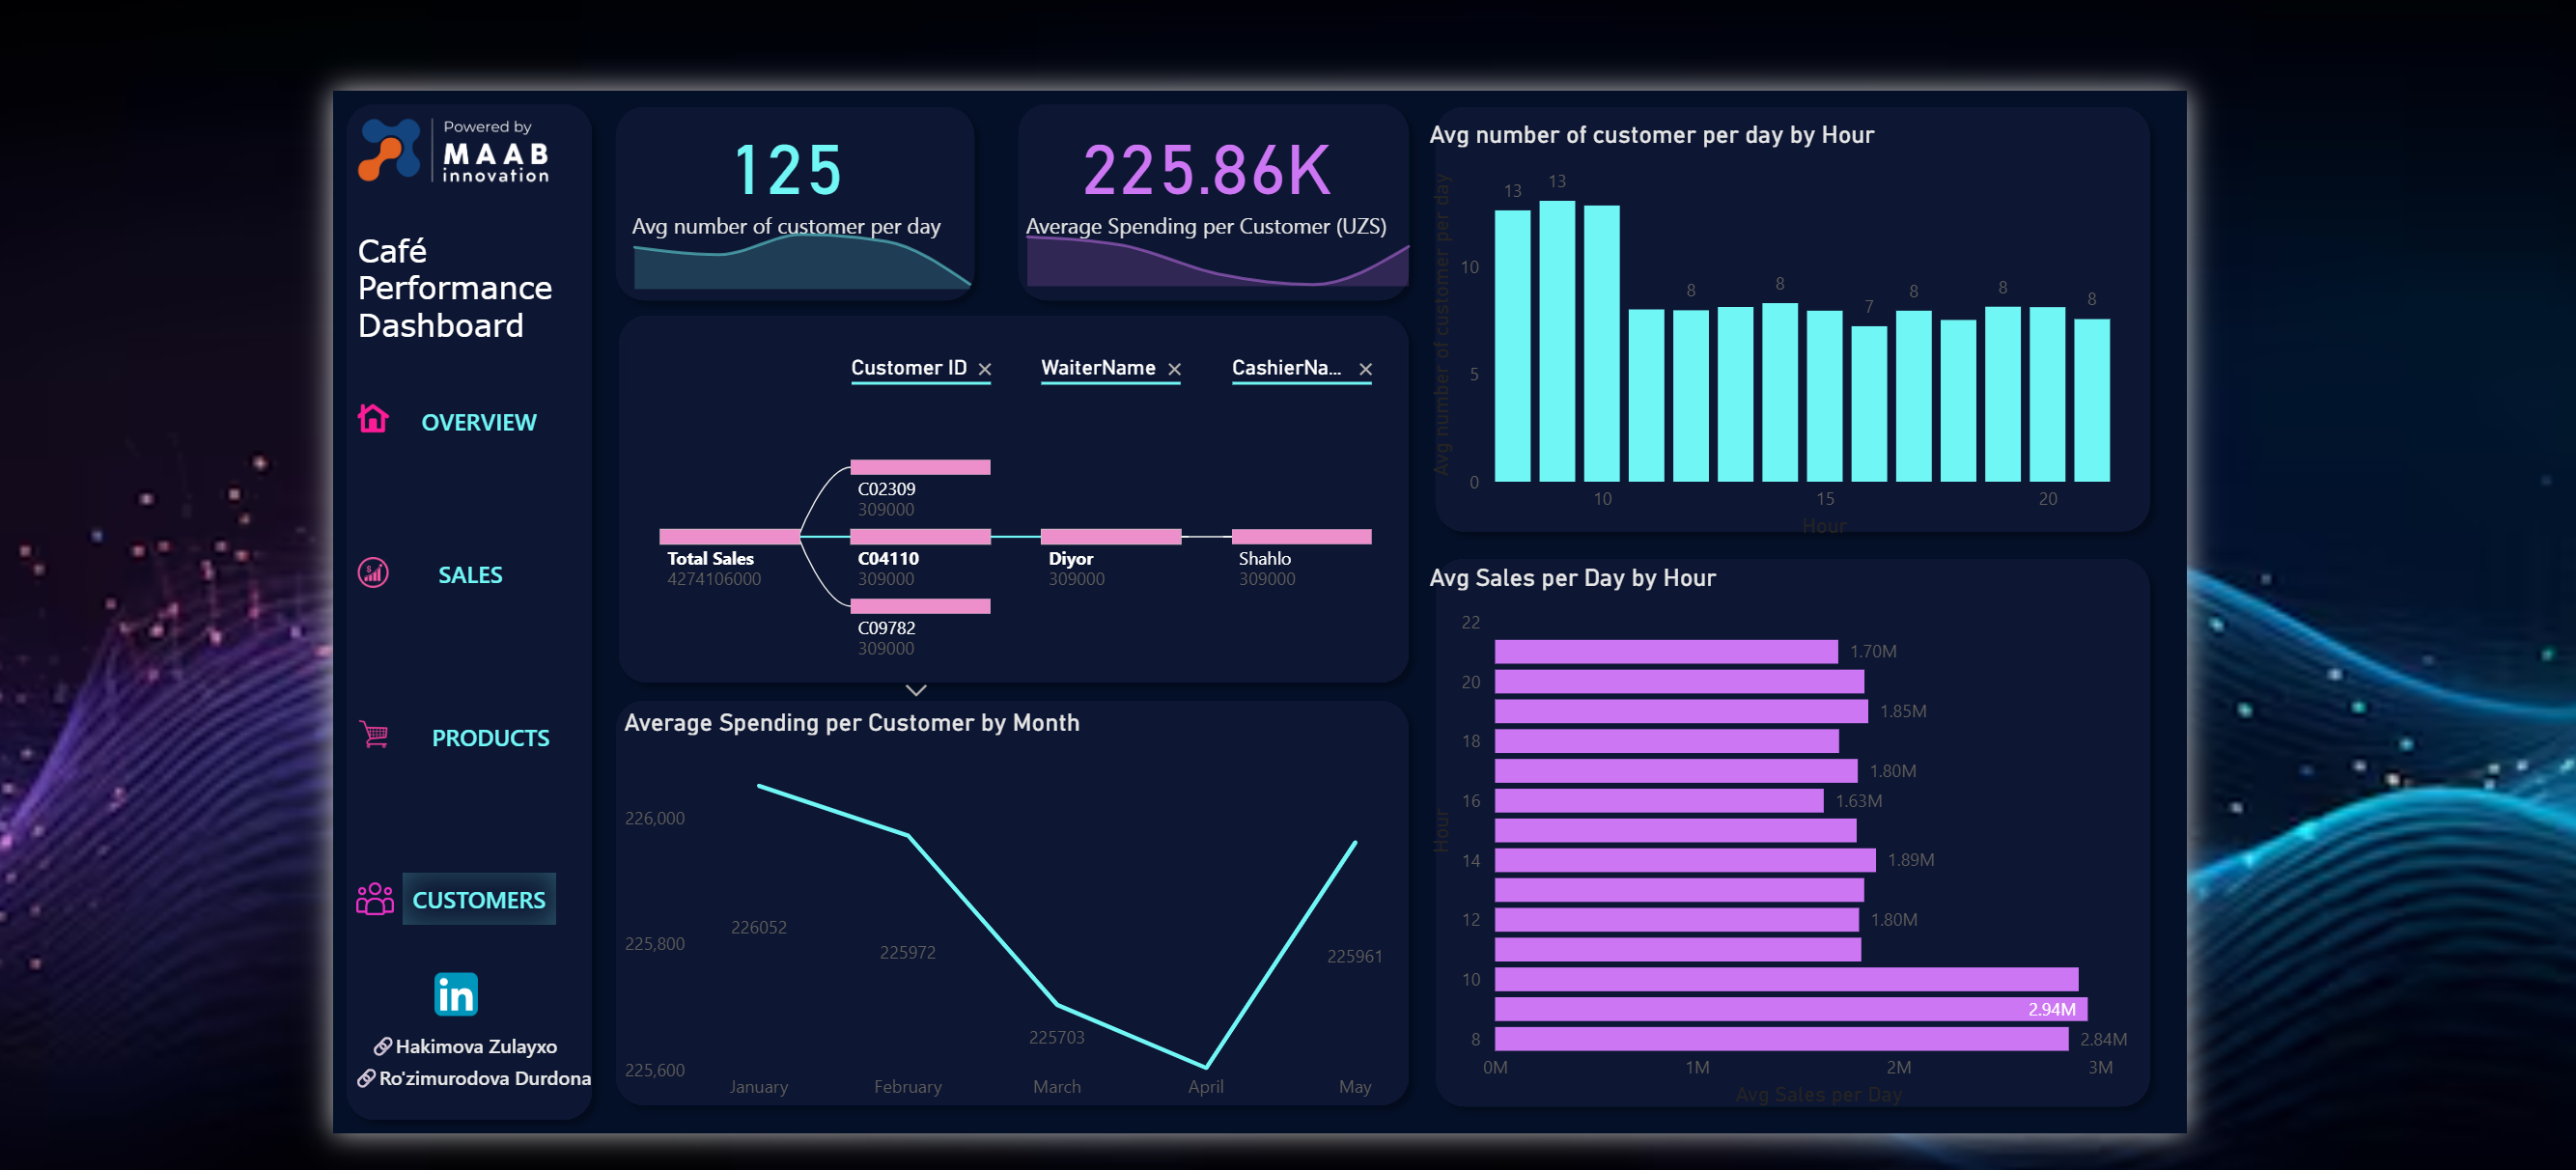

The page's visual inventory and layout, read from the dashboard file:
{"tool":"powerbi","page":{"name":"Customers","canvas":[1280,720],"ordinal":3},"visuals":[{"type":"shape","box":[751.7,1.7,511.7,311.7],"z":0},{"type":"shape","box":[751.7,313.3,511.7,396.7],"z":1000},{"type":"shape","box":[186,412,566,298],"z":2000},{"type":"shape","box":[464,0,288,154],"z":3000},{"type":"shape","box":[186,2,266,152],"z":4000},{"type":"card","fields":{"Values":["DimDate.Average Spending per Customer"]},"box":[464,0,278,116],"z":5000},{"type":"card","fields":{"Values":["DimDate.Avg number of customer per day"]},"box":[188,0,250,116],"z":6000},{"type":"stackedAreaChart","fields":{"Category":["DimDate.Date.Variation.Date Hierarchy.Year","DimDate.Date.Variation.Date Hierarchy.Quarter","DimDate.Date.Variation.Date Hierarchy.Month","DimDate.Date.Variation.Date Hierarchy.Day"],"Y":["DimDate.Average Spending per Customer"]},"box":[196,426,556,280],"z":7000},{"type":"clusteredBarChart","fields":{"Category":["SalesData.Hour"],"Y":["DimDate.Avg Revenue per Day"]},"box":[751.7,325,511.7,380],"z":8000},{"type":"clusteredColumnChart","fields":{"Category":["SalesData.Hour"],"Y":["DimDate.Avg number of customer per day"]},"box":[751.7,20,511.7,293.3],"z":9000},{"type":"shape","box":[0,0,188,720],"z":10000},{"type":"image","box":[12,0,142,82],"z":11000},{"type":"shape","box":[188,146,564,272],"z":12000},{"type":"decompositionTreeVisual","fields":{"ExplainBy":["SalesData.Customer ID","SalesData.WaiterName","SalesData.CashierName"],"Analyze":["DimDate.Total Sales"]},"box":[196,166,546,266],"z":13000},{"type":"textbox","box":[12,92,160,94],"z":14000},{"type":"group","id":"g1","title":"Group 1","box":[10,210,38,366],"z":15000},{"type":"actionButton","box":[48,210,106,36],"z":16000},{"type":"actionButton","box":[32,312,126,42],"z":17000},{"type":"actionButton","box":[46,426,126,40],"z":18000},{"type":"actionButton","box":[48,540,106,36],"z":19000},{"type":"lineChart","title":"Total Sales (UX","fields":{"Category":["DimDate.Date.Variation.Date Hierarchy.Month"],"Y":["DimDate.Average Spending per Customer"]},"box":[448,76,326,64],"z":20000},{"type":"lineChart","title":"Total Sales (UX","fields":{"Category":["DimDate.Date.Variation.Date Hierarchy.Month"],"Y":["DimDate.Avg number of customer per day"]},"box":[180,78,288,64],"z":21000},{"type":"image","box":[56,604,58,40],"z":21001},{"type":"actionButton","box":[0,638,180,46],"z":21002},{"type":"actionButton","box":[6,660,180,46],"z":21003},{"type":"image","box":[11,416.6,32.6,56.5],"z":27000,"group":"g1"},{"type":"image","box":[12.2,310.2,31.4,45.6],"z":28000,"group":"g1"},{"type":"image","box":[10,540,38,36],"z":29000,"group":"g1"},{"type":"image","box":[10,210,36,32],"z":30000,"group":"g1"}]}

Visuals, with their boxes on the page's 1280x720 design canvas (x1, y1, x2, y2). These are canvas units, not pixel positions in the 2576x1170 screenshot, which may show the page scaled, cropped or inside an application window:
shape: x1=752 y1=2 x2=1263 y2=313
shape: x1=752 y1=313 x2=1263 y2=710
shape: x1=186 y1=412 x2=752 y2=710
shape: x1=464 y1=0 x2=752 y2=154
shape: x1=186 y1=2 x2=452 y2=154
card - DimDate.Average Spending per Customer: x1=464 y1=0 x2=742 y2=116
card - DimDate.Avg number of customer per day: x1=188 y1=0 x2=438 y2=116
stackedAreaChart - DimDate.Date.Variation.Date Hierarchy.Year x DimDate.Date.Variation.Date Hierarchy.Quarter: x1=196 y1=426 x2=752 y2=706
clusteredBarChart - SalesData.Hour x DimDate.Avg Revenue per Day: x1=752 y1=325 x2=1263 y2=705
clusteredColumnChart - SalesData.Hour x DimDate.Avg number of customer per day: x1=752 y1=20 x2=1263 y2=313
shape: x1=0 y1=0 x2=188 y2=720
image: x1=12 y1=0 x2=154 y2=82
shape: x1=188 y1=146 x2=752 y2=418
decompositionTreeVisual - SalesData.Customer ID x SalesData.WaiterName: x1=196 y1=166 x2=742 y2=432
textbox: x1=12 y1=92 x2=172 y2=186
"Group 1" group: x1=10 y1=210 x2=48 y2=576
actionButton: x1=48 y1=210 x2=154 y2=246
actionButton: x1=32 y1=312 x2=158 y2=354
actionButton: x1=46 y1=426 x2=172 y2=466
actionButton: x1=48 y1=540 x2=154 y2=576
"Total Sales (UX" lineChart: x1=448 y1=76 x2=774 y2=140
"Total Sales (UX" lineChart: x1=180 y1=78 x2=468 y2=142
image: x1=56 y1=604 x2=114 y2=644
actionButton: x1=0 y1=638 x2=180 y2=684
actionButton: x1=6 y1=660 x2=186 y2=706
image: x1=11 y1=417 x2=44 y2=473
image: x1=12 y1=310 x2=44 y2=356
image: x1=10 y1=540 x2=48 y2=576
image: x1=10 y1=210 x2=46 y2=242
